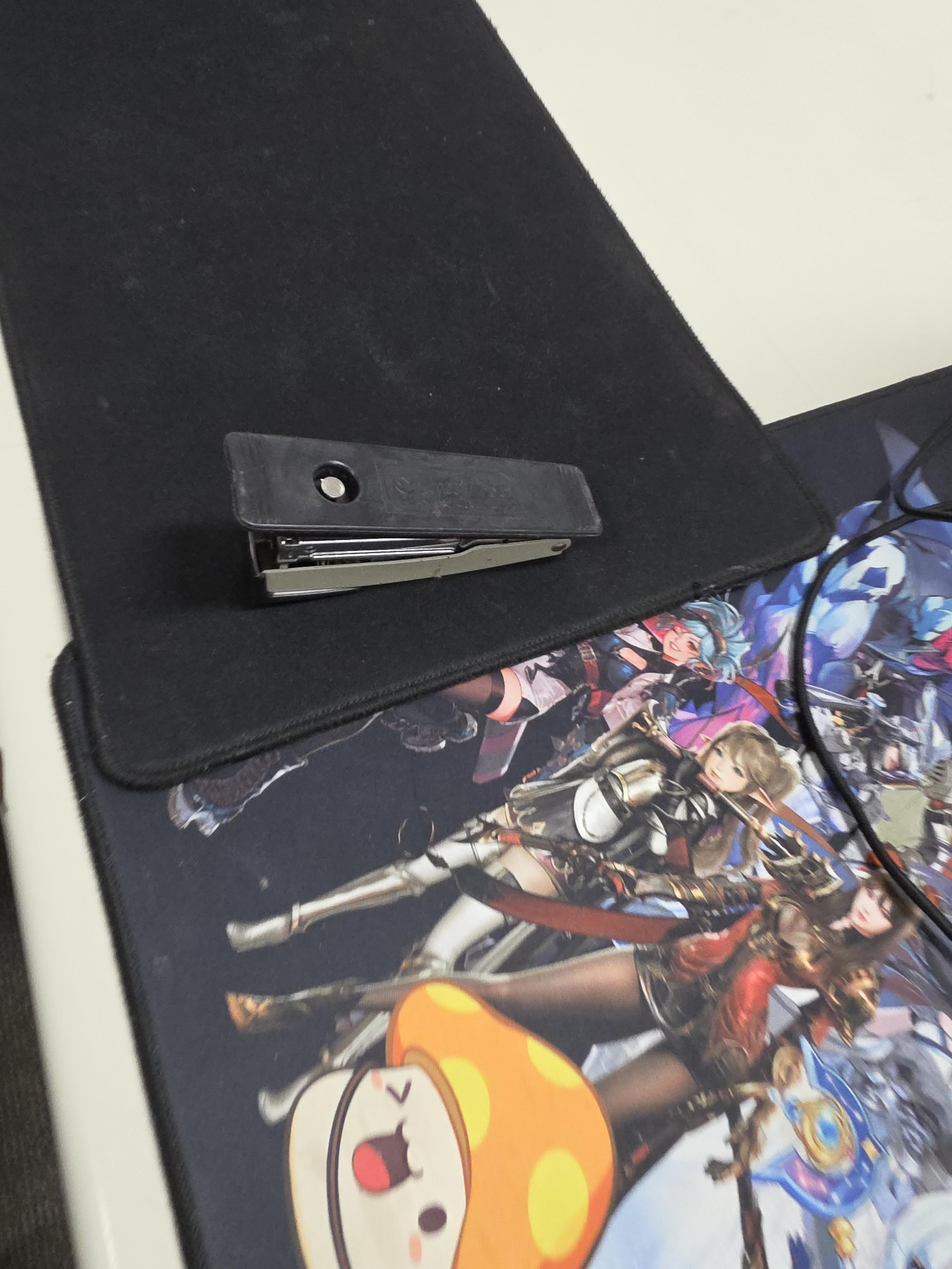stapler: (223, 430, 604, 601)
